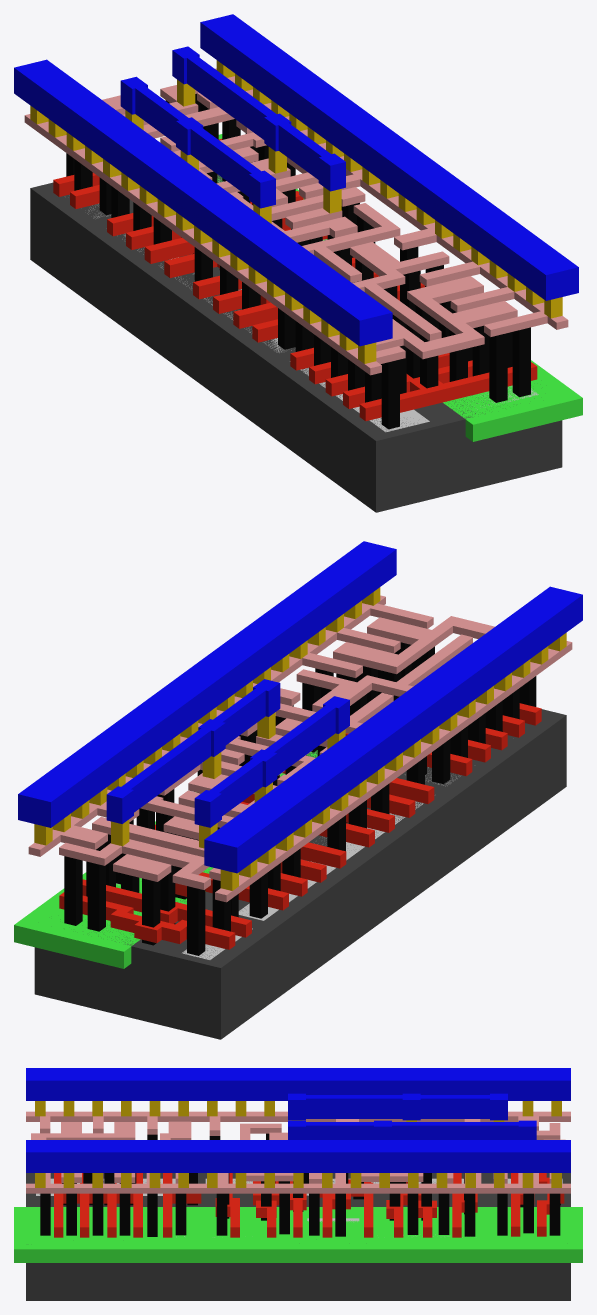
Rendered from sky130_fd_sc_hd__dfxtp_4.obj.
3 renders of one model, top to bottom at view 1: azimuth 30°, elevation 25°; view 2: azimuth 150°, elevation 25°; view 3: azimuth 270°, elevation 25°, orthographic. The views are drawn at different scales.
Parts seen in each view (by area): view 1: metal1, subs, li, licon, poly, mcon, nwell, diff; view 2: metal1, subs, li, licon, poly, mcon, nwell, diff; view 3: metal1, subs, nwell, li, licon, poly, mcon, diff.
Part boxes in pixels (x1,y1,x2,y2): metal1: (14, 14, 578, 346); subs: (30, 174, 562, 512); li: (24, 68, 568, 375); licon: (66, 93, 530, 429); poly: (53, 138, 537, 421); mcon: (30, 60, 562, 363); nwell: (217, 134, 582, 441); diff: (87, 203, 429, 432); metal1: (18, 541, 582, 873); subs: (34, 709, 566, 1039); li: (28, 595, 572, 902); licon: (64, 642, 536, 955); poly: (59, 703, 541, 949); mcon: (34, 587, 566, 890); nwell: (14, 750, 317, 968); diff: (182, 767, 460, 959); metal1: (26, 1068, 570, 1172); subs: (26, 1173, 570, 1300); nwell: (14, 1207, 582, 1262); li: (26, 1111, 570, 1193); licon: (40, 1133, 560, 1236); poly: (54, 1173, 564, 1237); mcon: (35, 1101, 561, 1187); diff: (36, 1178, 562, 1195).
Bounding box in the file's own units: 3.2 × 2.74 × 9.12.
